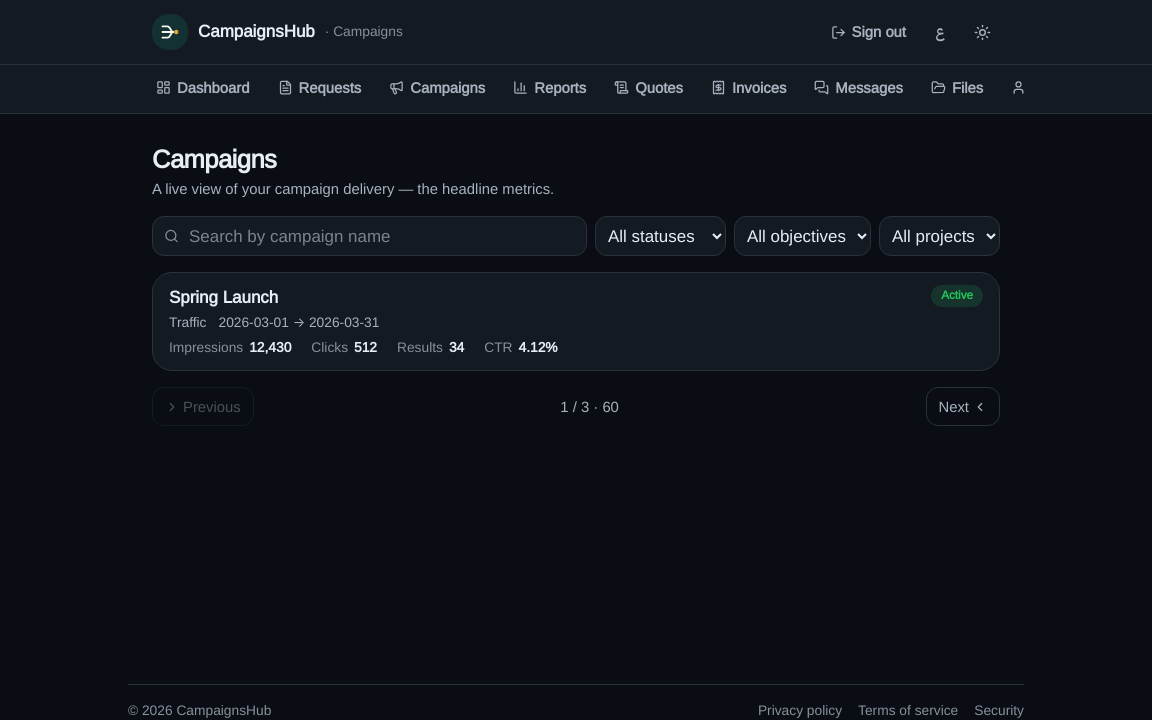
Scenario: ClientCampaignsPage › sends the search, filters and page to the server rather than filtering in the browser
Expected: the text "Spring Launch" is shown, [169,285,278,311]
Select "Paused (12)" in the dropdown named "All statuses". click: (660, 236)
box: [595,216,726,256]
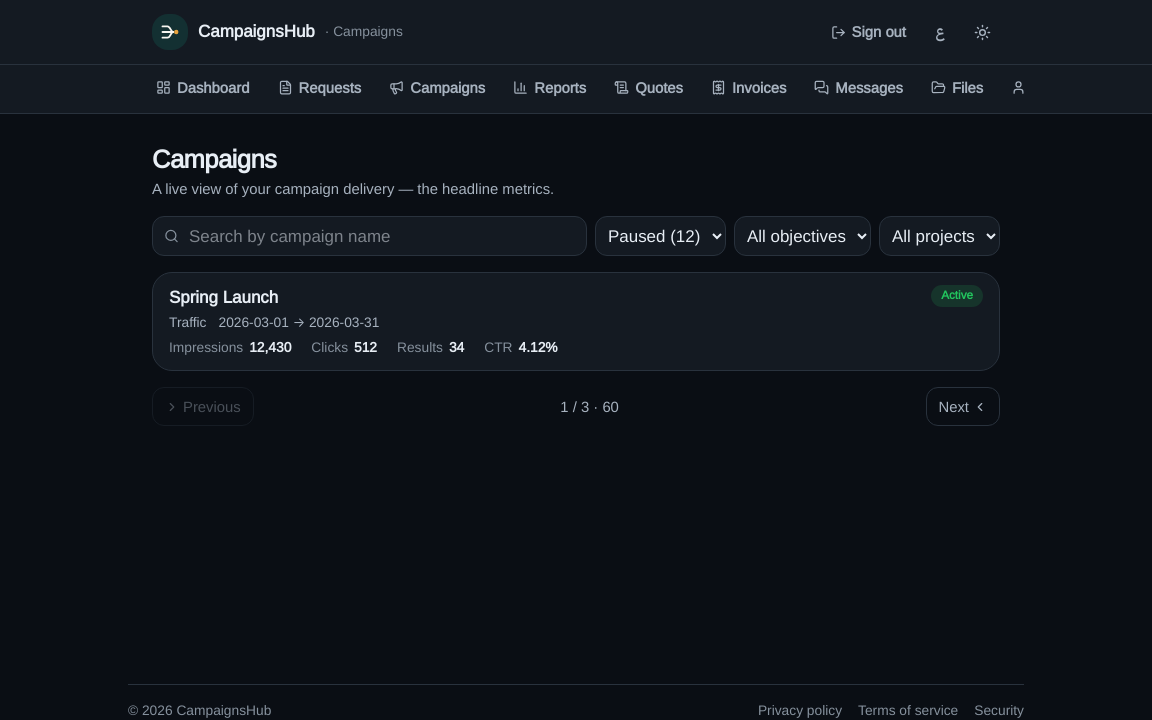
Type "ramadan" into the field labelled "Search by campaign name". click: (370, 236)
box: [152,216,587,256]
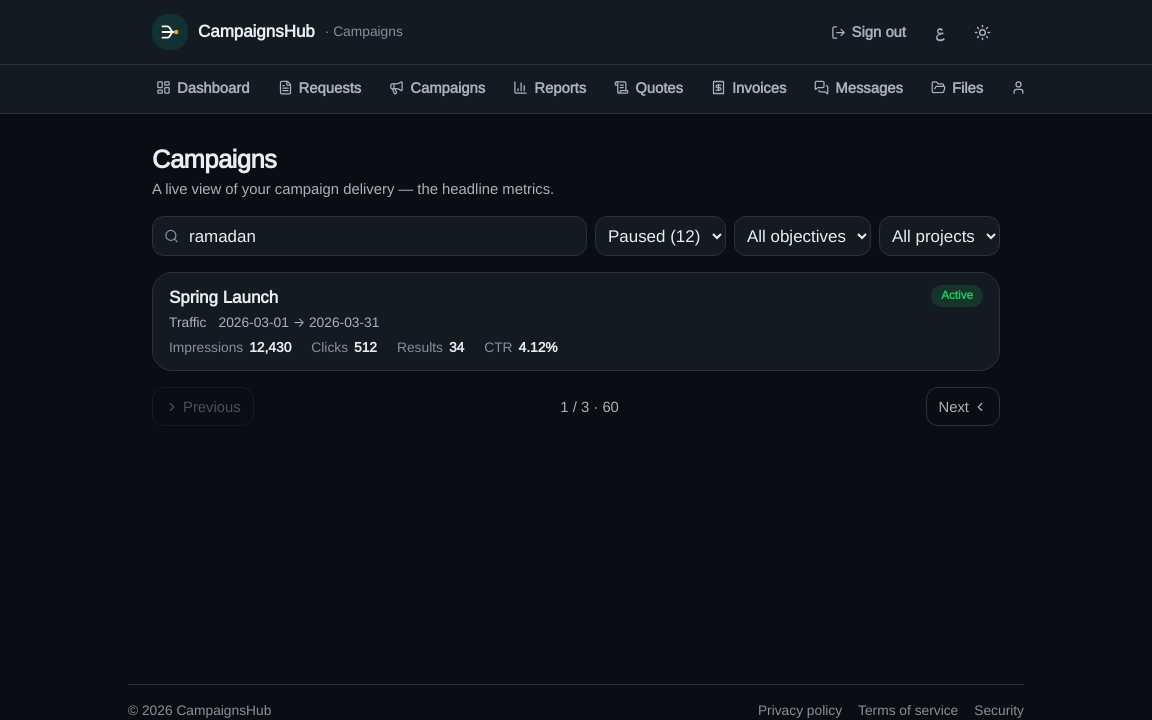
Click the button "Next". click: (963, 407)
box: [926,387,1000,426]
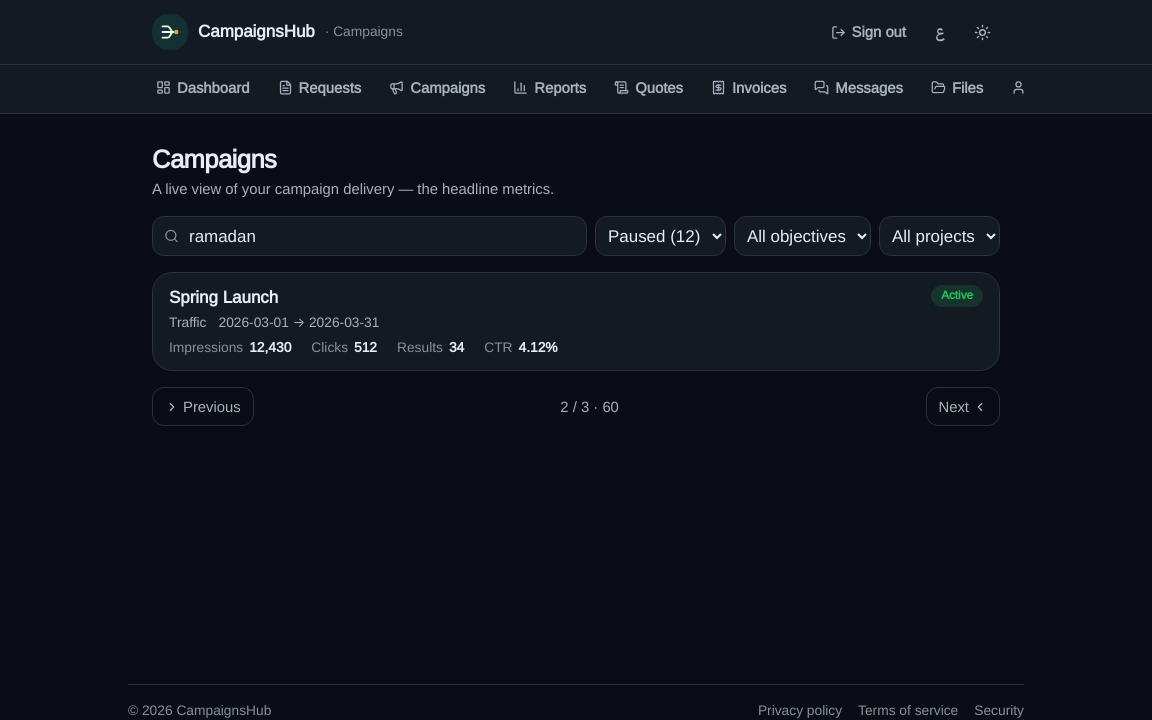
Expected: the navigation bar with test id "campaign-pager" shows "2 / 3", [152,387,1000,426]
